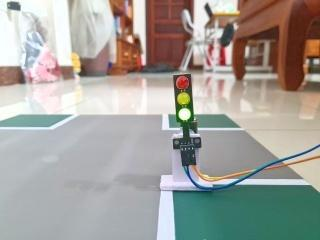green: (169, 68, 202, 136)
